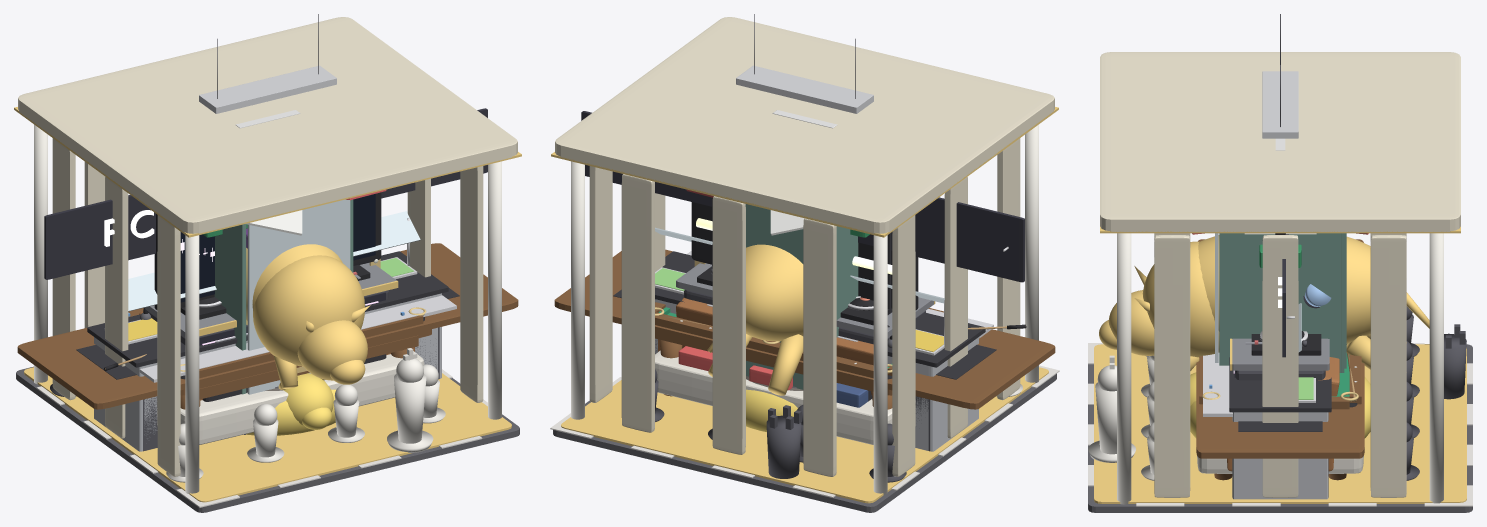
Rendered from PropPack4.fbx.
The picture shows the model from 3 angles, left to right: view 1: azimuth 30°, elevation 25°; view 2: azimuth 150°, elevation 25°; view 3: azimuth 270°, elevation 25°; orthographic projection. The views are drawn at different scales.
Parts seen in each view (by area): view 1: Fabric_ParasolCream.001, Metal_Gold.030, Metal_Gold.021, Wood_CabanaPost, Wood_Walnut.019, SmoothPlastic_ChessWhite, Glass_Backer.001, Glass_Clear.012, Fabric_Cushion, Marble_ChessDark, Wood_Walnut.026, Fabric_Acoustic (+16 smaller); view 2: Fabric_ParasolCream.001, Metal_Gold.030, Wood_CabanaPost, Wood_Walnut.019, Glass_Backer.001, Metal_Gold.021, Marble_ChessDark, Fabric_Cushion, Fabric_Acoustic, SmoothPlastic_ChessBlack, Wood_Walnut.026, Metal_Aluminium (+16 smaller); view 3: Fabric_ParasolCream.001, Metal_Gold.030, Fabric_Acoustic, Metal_Gold.021, Wood_CabanaPost, Wood_Walnut.019, Marble_ChessDark, Metal_Steel.001, SmoothPlastic_ChessWhite, SmoothPlastic_ChessBlack, Metal_Aluminium, Marble_Black.002 (+12 smaller).
Boxes of the visible parts, x1,y1,x2,y2 form: Fabric_ParasolCream.001: [18, 17, 517, 476]; Metal_Gold.030: [24, 367, 511, 502]; Metal_Gold.021: [246, 244, 370, 388]; Wood_CabanaPost: [34, 124, 501, 493]; Wood_Walnut.019: [17, 243, 518, 409]; SmoothPlastic_ChessWhite: [166, 348, 445, 482]; Glass_Backer.001: [44, 108, 487, 279]; Glass_Clear.012: [247, 199, 350, 394]; Fabric_Cushion: [180, 351, 424, 444]; Marble_ChessDark: [16, 366, 519, 512]; Wood_Walnut.026: [128, 308, 431, 409]; Fabric_Acoustic: [214, 199, 353, 394]; Fabric_ParasolCream.001: [555, 17, 1054, 476]; Metal_Gold.030: [561, 367, 1048, 503]; Wood_CabanaPost: [571, 124, 1038, 494]; Wood_Walnut.019: [554, 249, 1055, 409]; Glass_Backer.001: [581, 111, 1024, 282]; Metal_Gold.021: [707, 244, 803, 395]; Marble_ChessDark: [553, 373, 1056, 512]; Fabric_Cushion: [655, 350, 892, 444]; Fabric_Acoustic: [745, 204, 858, 389]; SmoothPlastic_ChessBlack: [655, 369, 906, 482]; Wood_Walnut.026: [655, 302, 943, 409]; Metal_Aluminium: [736, 65, 873, 113]; Fabric_ParasolCream.001: [1100, 52, 1460, 497]; Metal_Gold.030: [1094, 344, 1466, 503]; Fabric_Acoustic: [1219, 233, 1346, 372]; Metal_Gold.021: [1099, 235, 1429, 370]; Wood_CabanaPost: [1117, 233, 1443, 504]; Wood_Walnut.019: [1196, 239, 1364, 458]; Marble_ChessDark: [1088, 344, 1472, 512]; Metal_Steel.001: [1232, 412, 1328, 499]; SmoothPlastic_ChessWhite: [1088, 355, 1154, 480]; SmoothPlastic_ChessBlack: [1406, 306, 1466, 480]; Metal_Aluminium: [1262, 71, 1298, 138]; Marble_Black.002: [1229, 357, 1331, 412].
Bounding box in the file's own units: 438 × 369 × 320.
